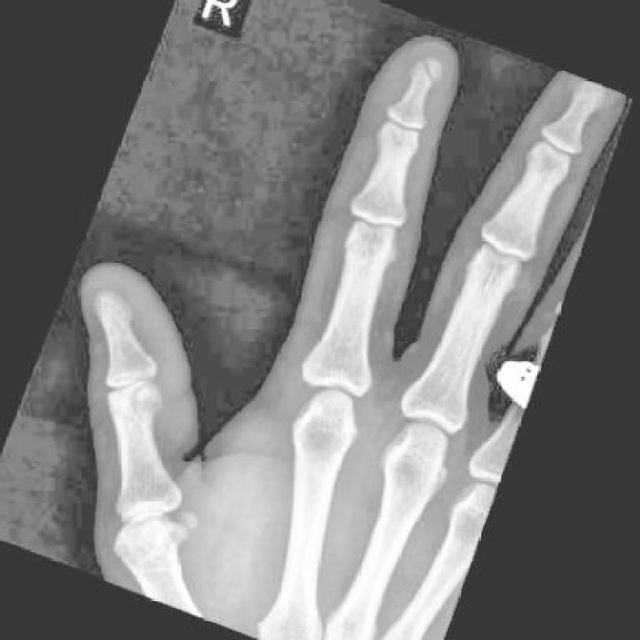Fracture: (406, 48, 452, 92)
